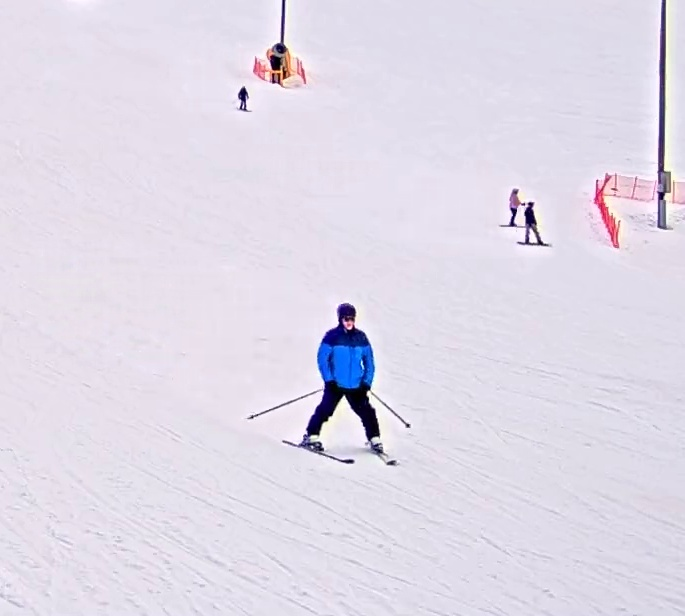skier: (239, 291, 416, 473)
